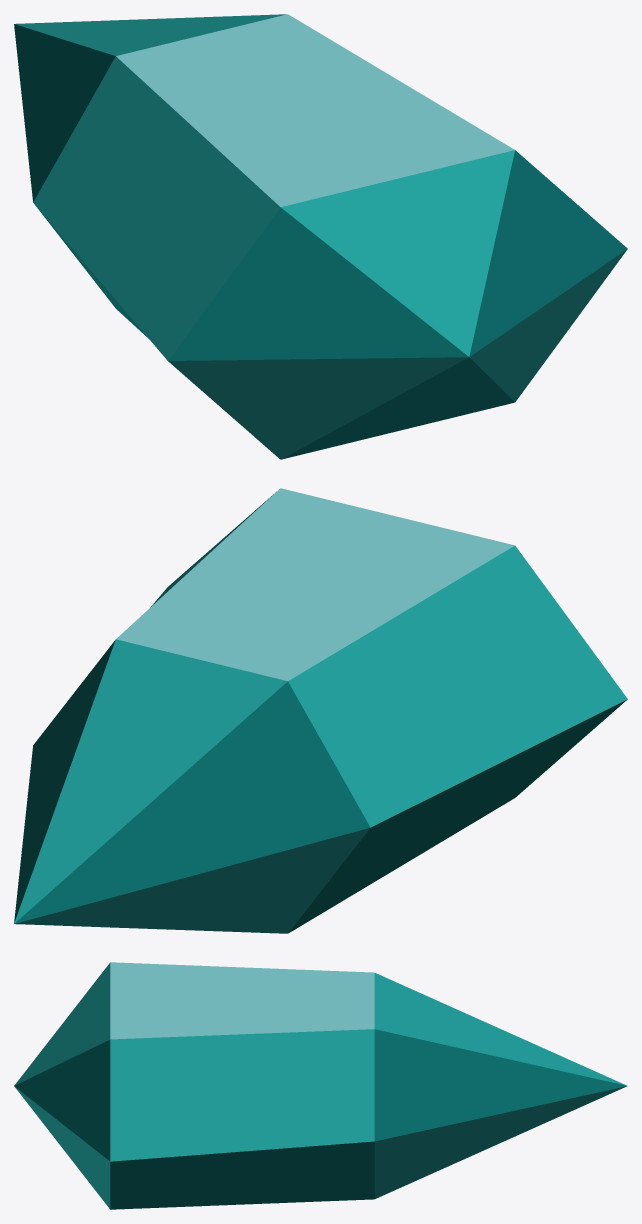
The model's file is Jewel_C.fbx.
3 views of the same model, one above another, from view 1: azimuth 30°, elevation 25°; view 2: azimuth 150°, elevation 25°; view 3: azimuth 270°, elevation 25° (orthographic). The views are drawn at different scales.
Parts seen in each view (by area): view 1: Jewel_C; view 2: Jewel_C; view 3: Jewel_C.
Boxes of the visible parts, x1=… form: Jewel_C: x1=14, y1=14, x2=627, y2=459; Jewel_C: x1=14, y1=488, x2=627, y2=933; Jewel_C: x1=14, y1=962, x2=627, y2=1209.
Bounding box in the file's own units: 0.1568 × 0.0822 × 0.2688.
